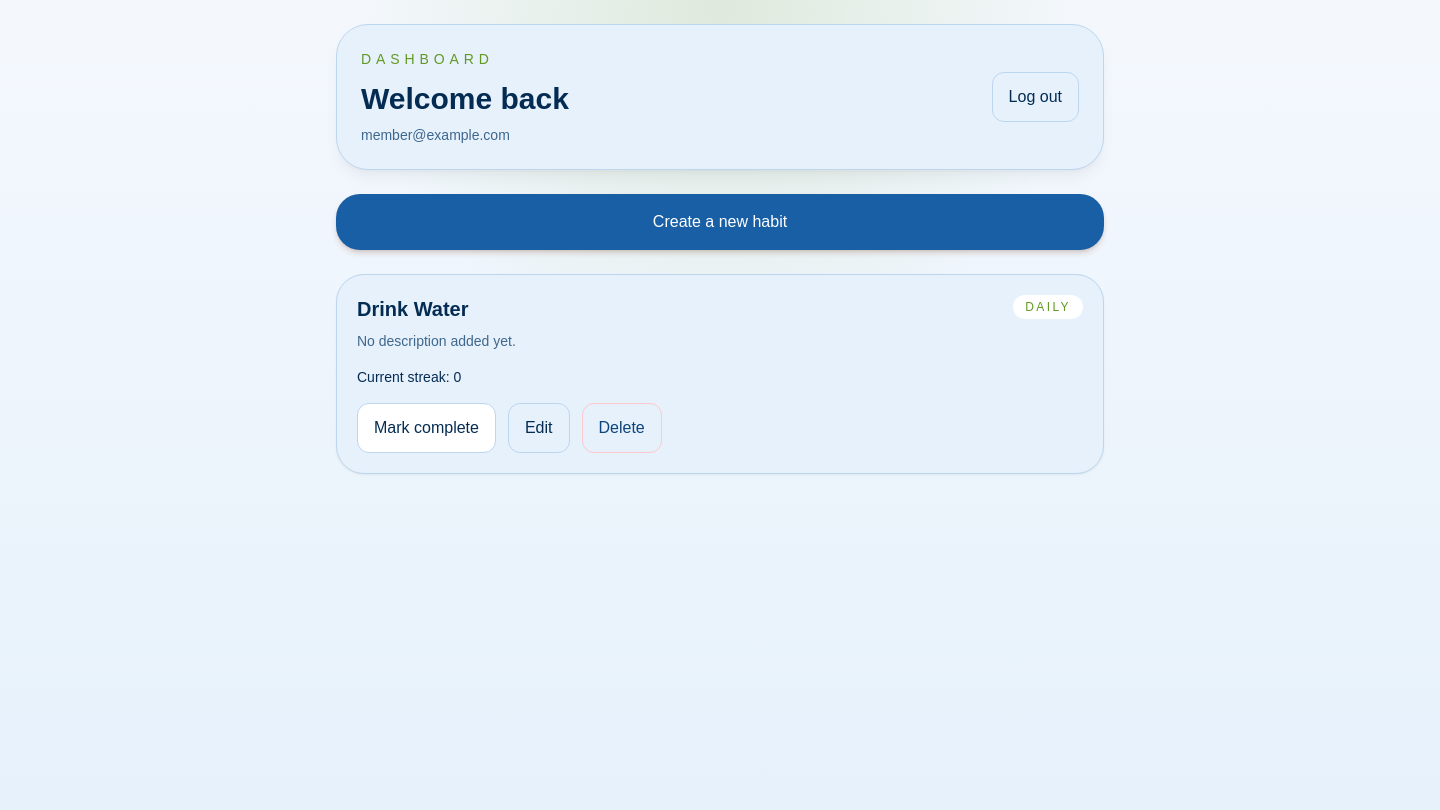
habit form › deletes a habit only after explicit confirmation
The image size is (1440, 810).
Expected: the element with test id "dashboard-page" is shown, [336, 24, 1104, 474]
What coordinates should you click on to do the following:
click the button with test id "habit-delete-drink-water"
I would click on:
 (622, 428)
Its box is [582, 403, 662, 453].
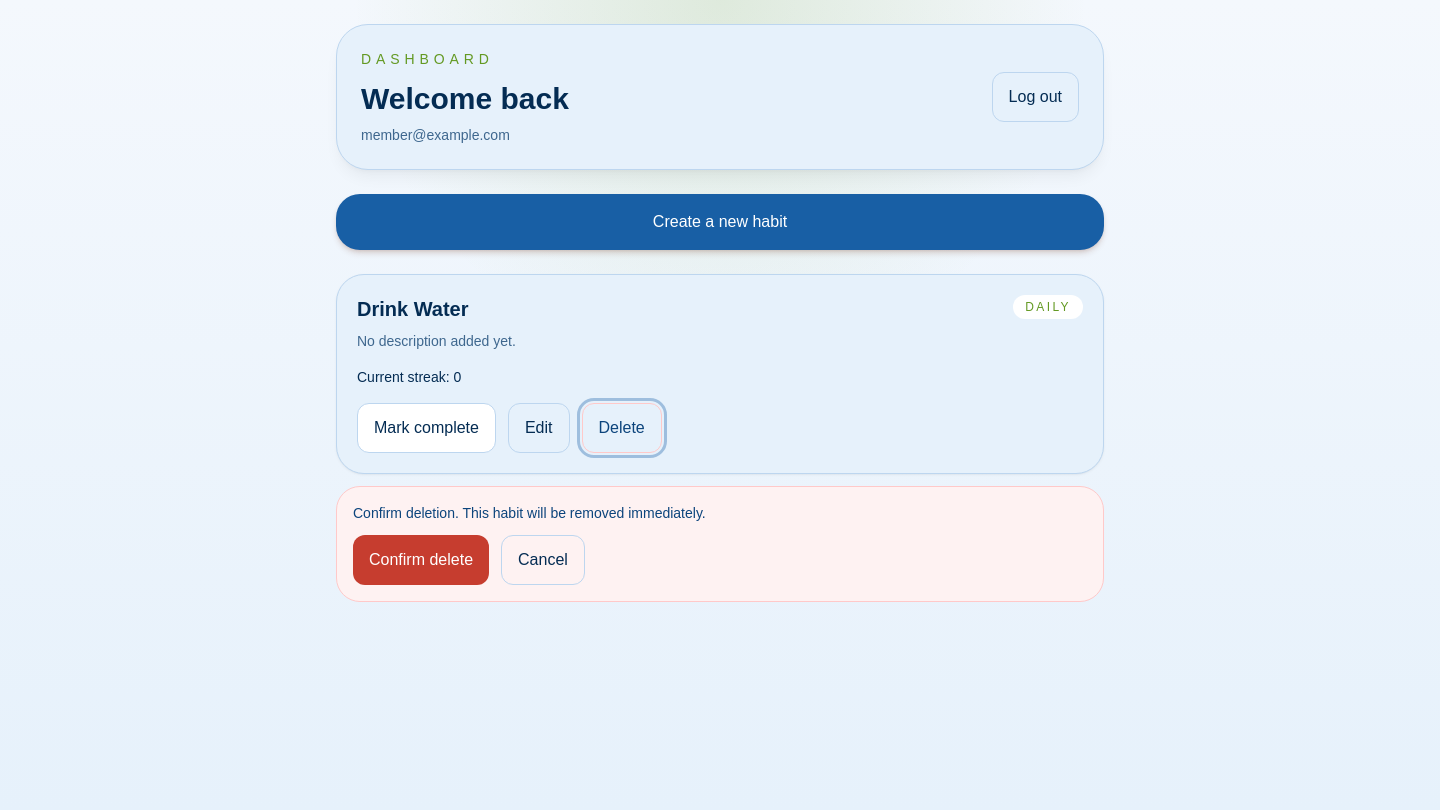
Expected: the element with test id "habit-card-drink-water" is shown, [336, 274, 1104, 474]
Now the button with test id "confirm-delete-button" is shown
What coordinates should you click on to do the following:
click the button with test id "confirm-delete-button"
I would click on:
 (421, 560)
Its box is [353, 535, 489, 585].
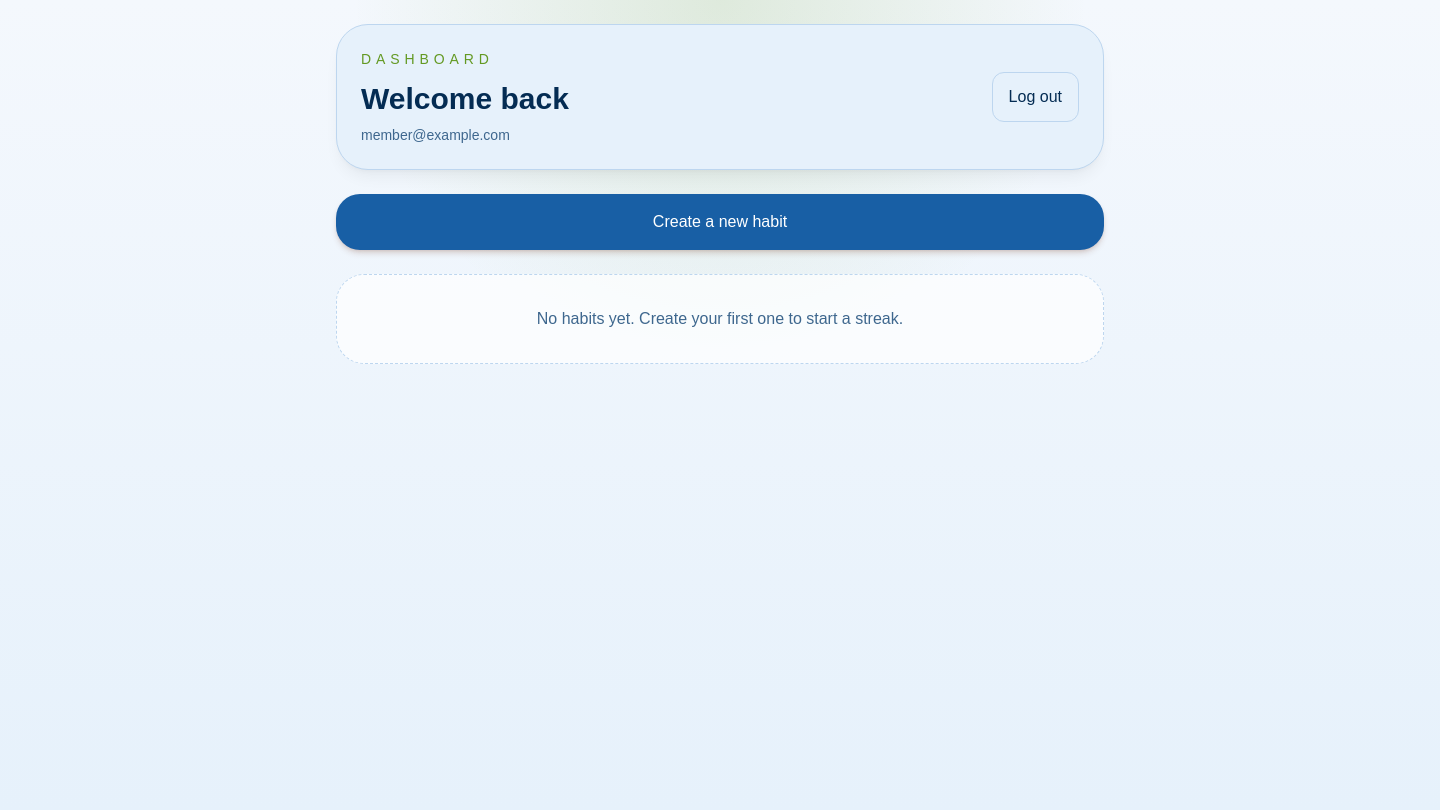
Now the element with test id "habit-card-drink-water" is gone
